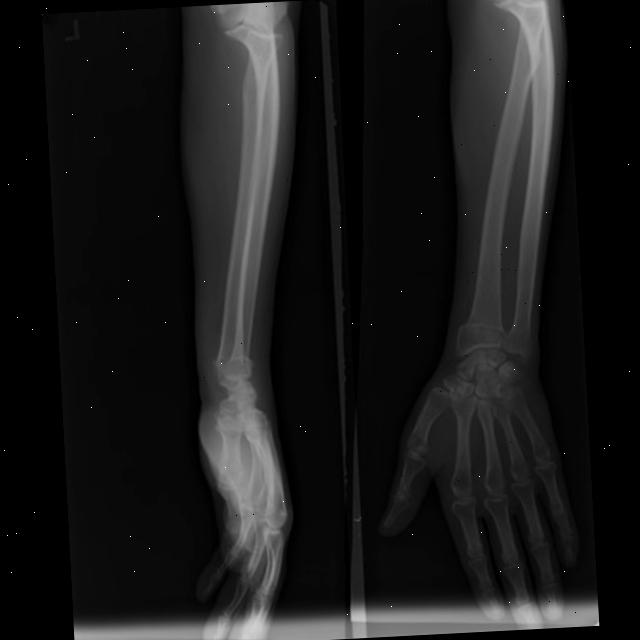Fracture: (457, 319, 511, 341), (209, 349, 255, 374)
